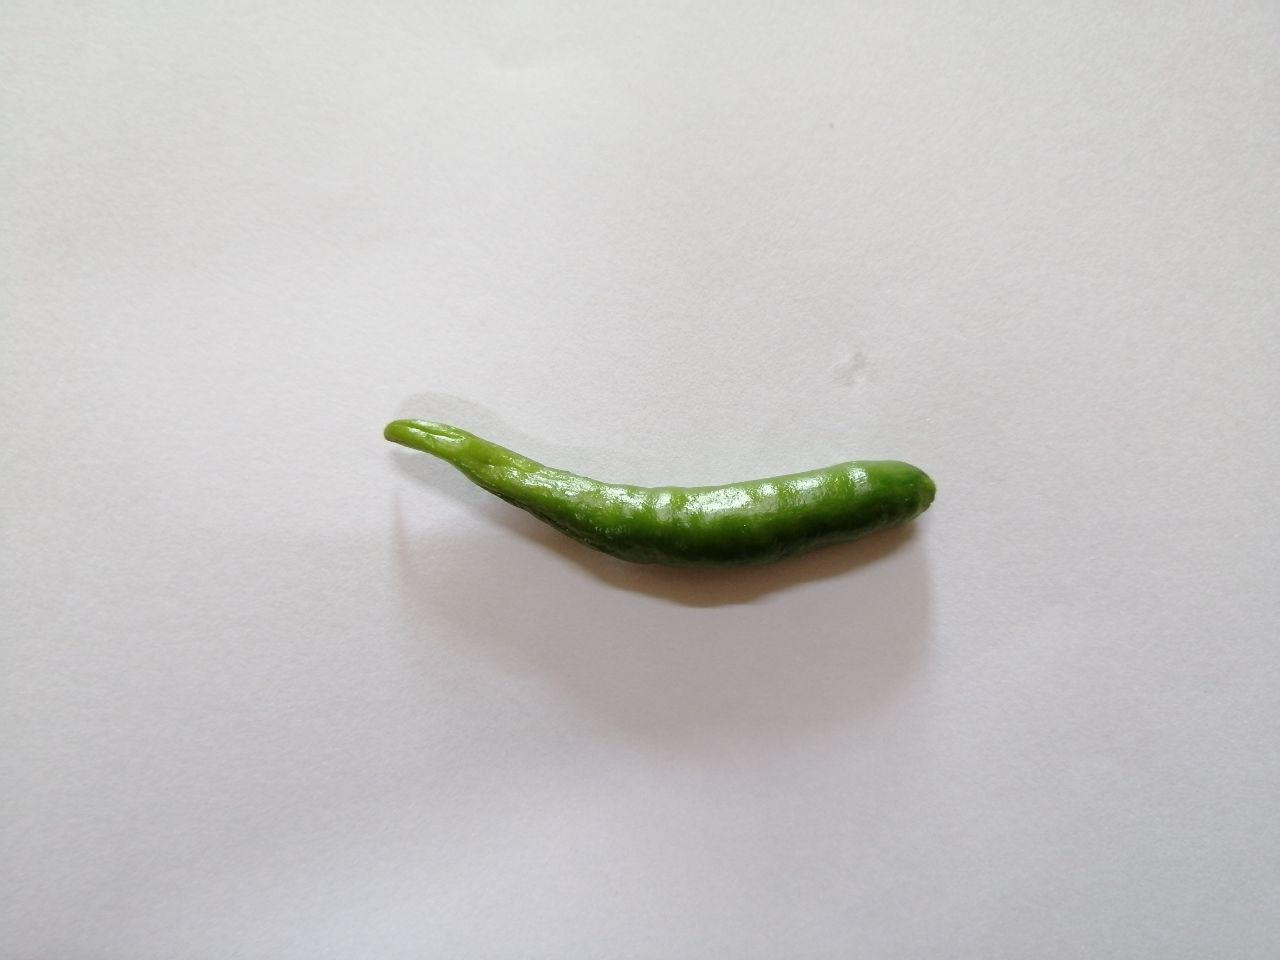lada hijau: (375, 405, 958, 603)
